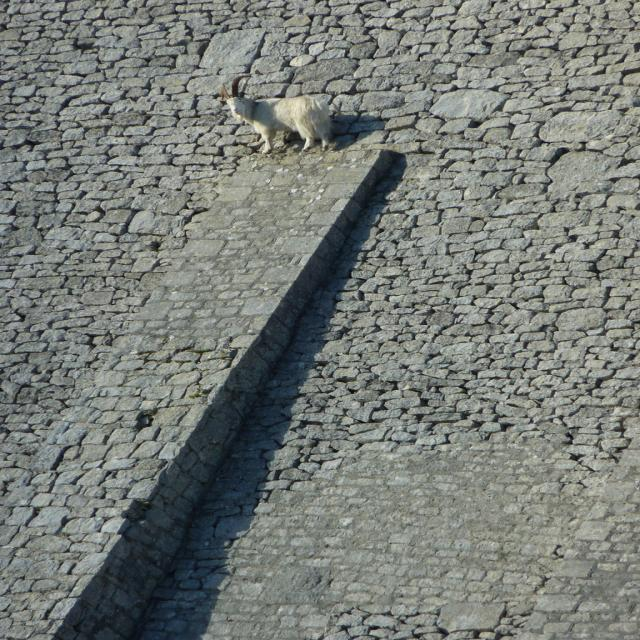Goat: (216, 78, 335, 148)
